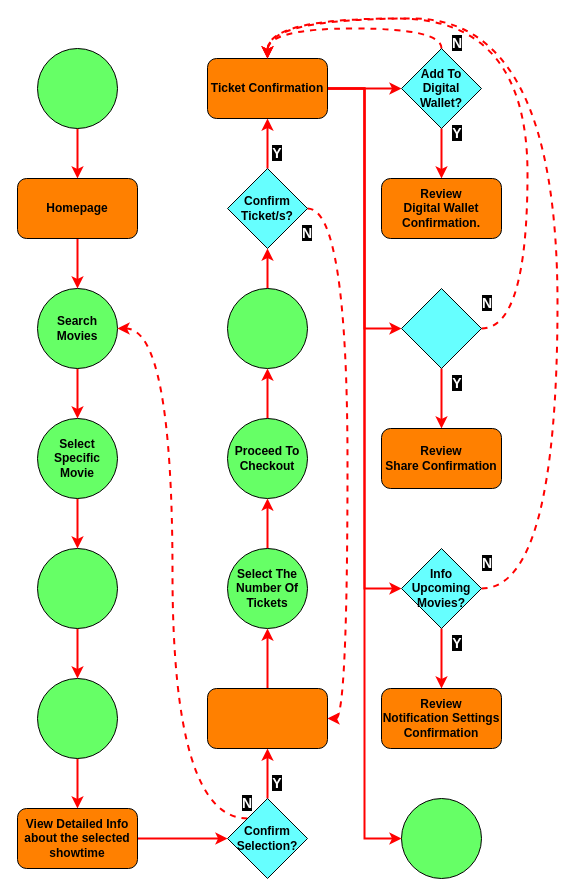
Some shapes in this 576 by 896 pixel diagram are drawn without their labels. The centre of each missing label's shape, as x and y in pixels:
"Choose a Preferred Showtime" goes at point 77,718.
"Explore Available Showtimes" goes at point 77,588.
"Explore Cancellation Poilicies & Support Options" goes at point 441,838.
"Open App" goes at point 77,88.
"Provide Info For Ticket Purchase" goes at point 267,328.
"Review Ticket Details & Pricing" goes at point 267,718.
"Share Booking Details?" goes at point 441,328.
